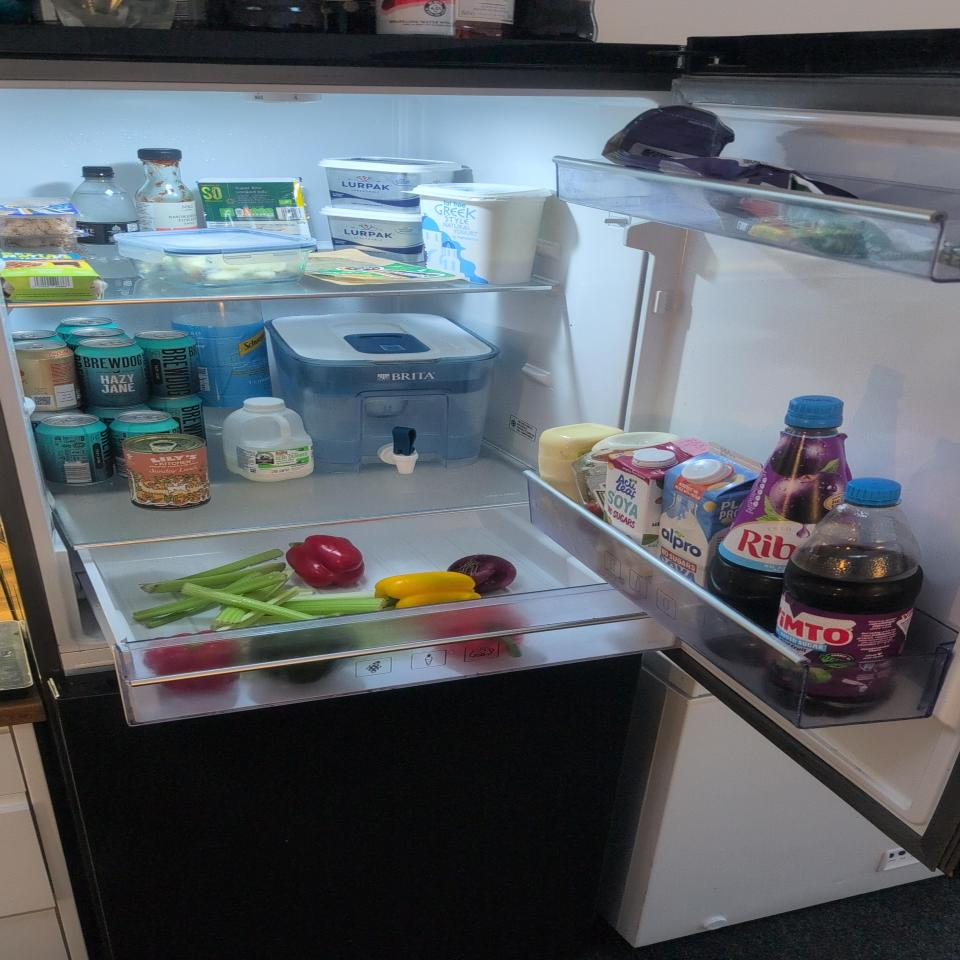Yogur: (415, 184, 552, 282)
bell pepper: (145, 630, 238, 690), (432, 606, 524, 661), (375, 571, 481, 611), (286, 534, 364, 588)
